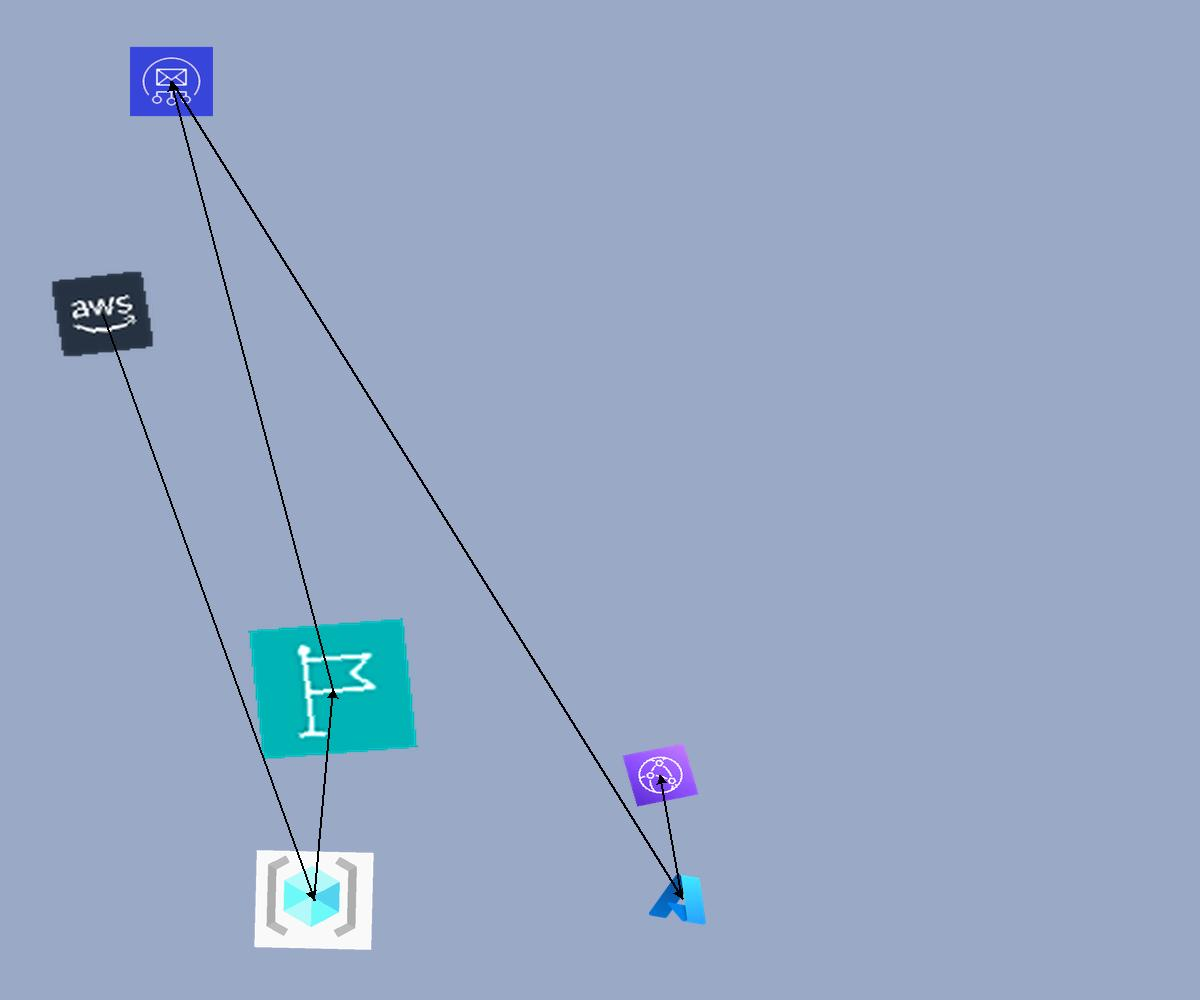AWS-Cloud-logo: (50, 270, 155, 358)
AWS-CloudFront: (622, 743, 699, 807)
AWS-Region: (248, 618, 418, 760)
AWS-Simple-Email-Service: (129, 46, 214, 117)
Azure_resource_group: (254, 850, 374, 950)
Azure_services: (645, 867, 720, 929)
